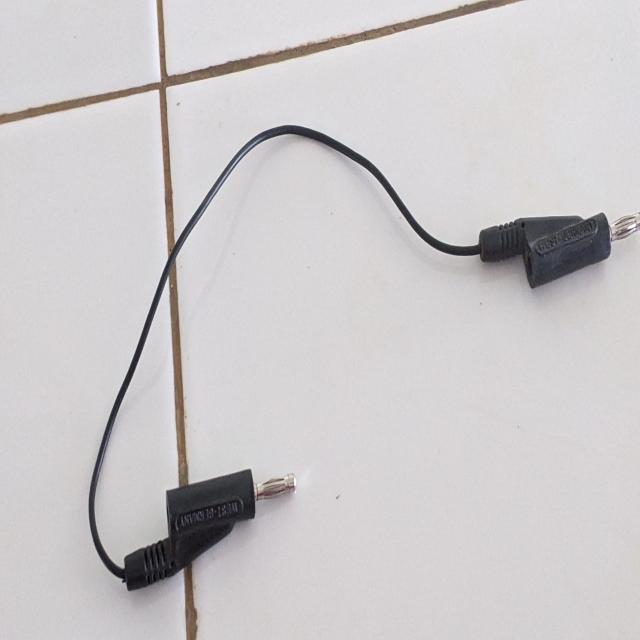BNC Cable: (57, 102, 640, 594)
